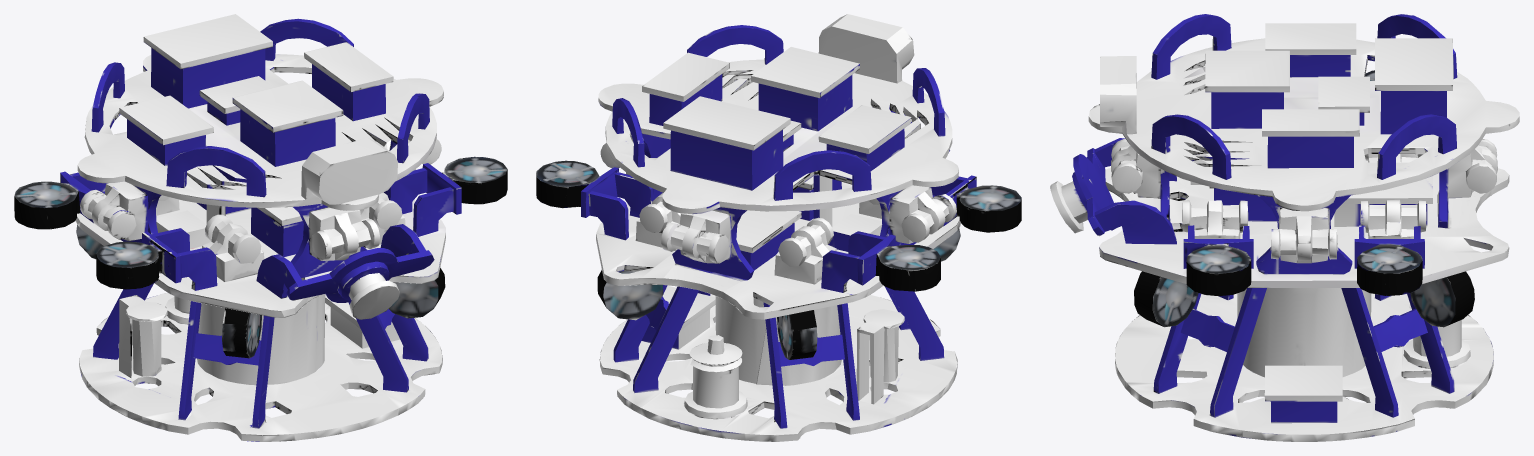
Rendered from decimatedauv.gltf.
3 renders of one model, left to right at view 1: azimuth 30°, elevation 25°; view 2: azimuth 150°, elevation 25°; view 3: azimuth 270°, elevation 25°, orthographic. The views are drawn at different scales.
Parts seen in each view (by area): view 1: v2; view 2: v2; view 3: v2.
Boxes of the visible parts, x1,y1,x2,y2 form: v2: (14,14,507,441); v2: (536,14,1021,441); v2: (1050,14,1519,441).
Bounding box in the file's own units: 0.7298 × 0.4985 × 0.706.
Materials: 1 (1 with a texture image).
